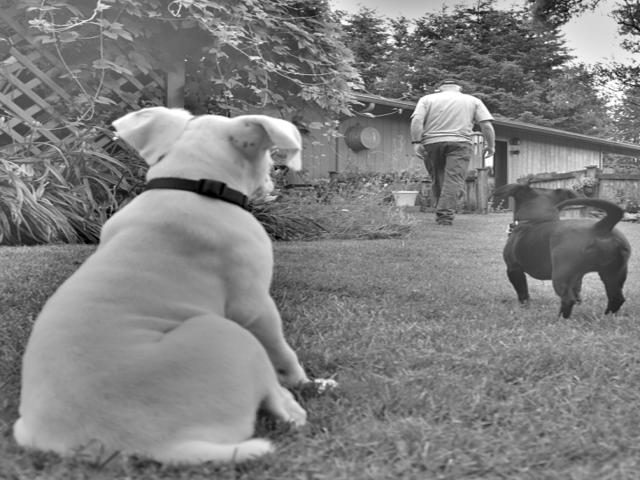Dog: (12, 103, 304, 465), (489, 184, 632, 323)
